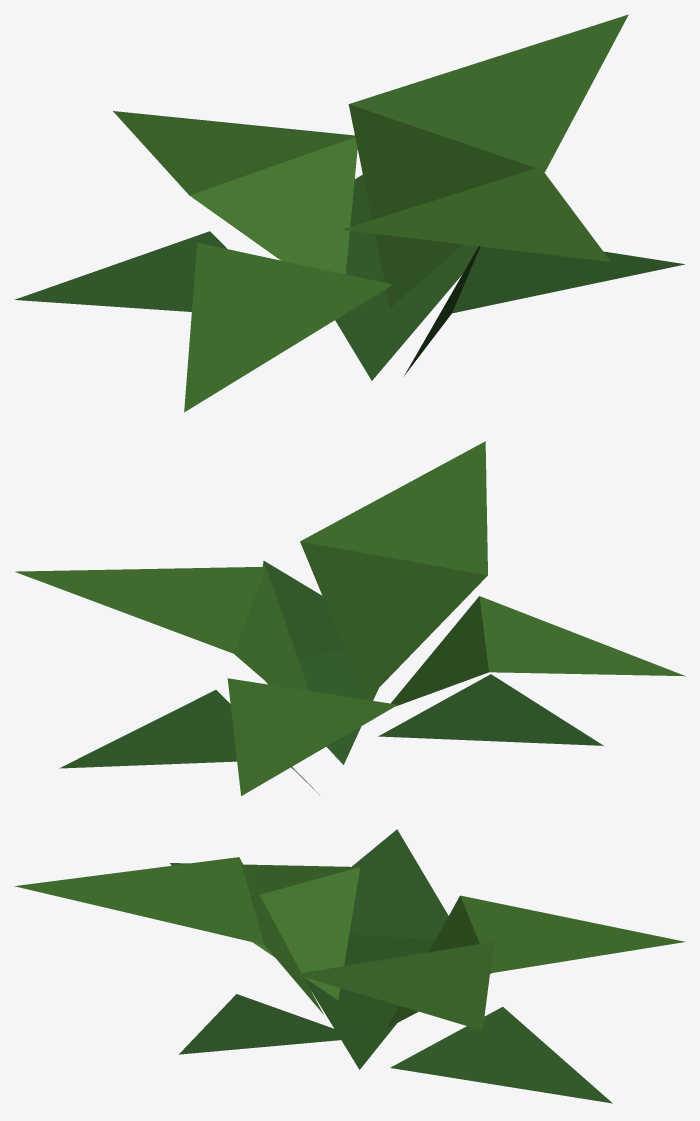
File: cover-bushFar.glb
The picture shows the model from 3 angles, top to bottom: view 1: azimuth 30°, elevation 25°; view 2: azimuth 150°, elevation 25°; view 3: azimuth 270°, elevation 25°; orthographic projection. The views are drawn at different scales.
Parts seen in each view (by area): view 1: cover-bushFar; view 2: cover-bushFar; view 3: cover-bushFar.
Boxes of the visible parts, x1,y1,x2,y2 form: cover-bushFar: [14, 14, 684, 412]; cover-bushFar: [15, 441, 685, 795]; cover-bushFar: [14, 829, 685, 1103].
Bounding box in the file's own units: 1.65 × 0.6446 × 1.71.
